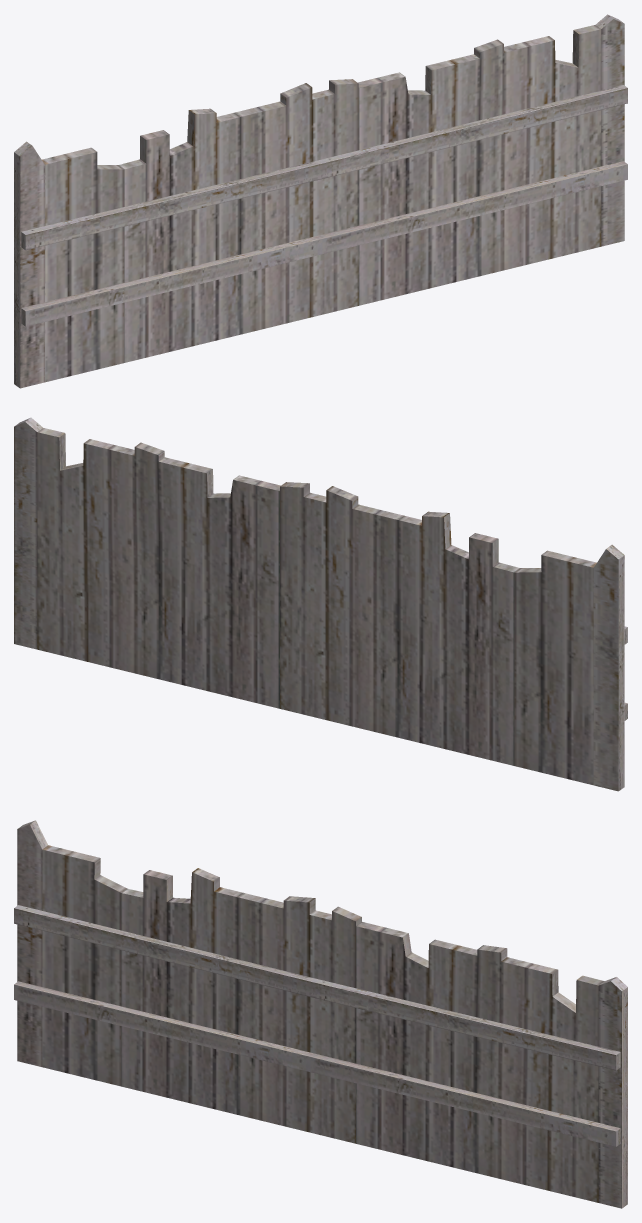
File: Prop_Railings5c.glb
The picture shows the model from 3 angles, top to bottom: view 1: azimuth 30°, elevation 25°; view 2: azimuth 150°, elevation 25°; view 3: azimuth 330°, elevation 25°; orthographic projection.
Visible parts, largest first — view 1: xiutz_railings5c; view 2: xiutz_railings5c; view 3: xiutz_railings5c.
Boxes of the visible parts, x1,y1,x2,y2 form: xiutz_railings5c: (14,14,627,388); xiutz_railings5c: (14,417,627,791); xiutz_railings5c: (14,820,627,1208).
Size of the model in its own units: 5.78 by 2.19 by 0.1736.
Materials: 1 (1 with a texture image).
